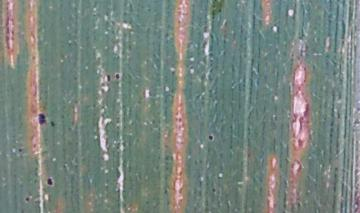tarspot: (35, 110, 48, 128), (43, 173, 56, 189), (205, 131, 216, 144), (22, 193, 33, 205), (113, 70, 123, 82), (16, 143, 25, 156), (104, 71, 113, 84), (210, 186, 219, 196), (49, 119, 57, 129)
